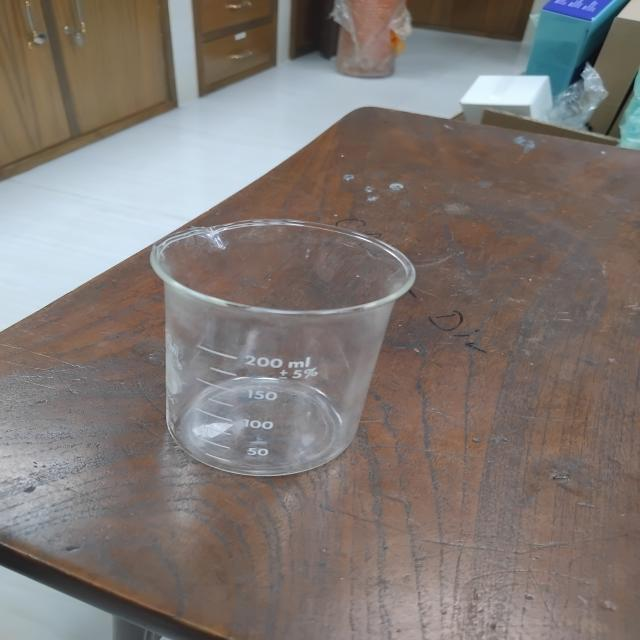Beaker: (136, 207, 435, 498)
